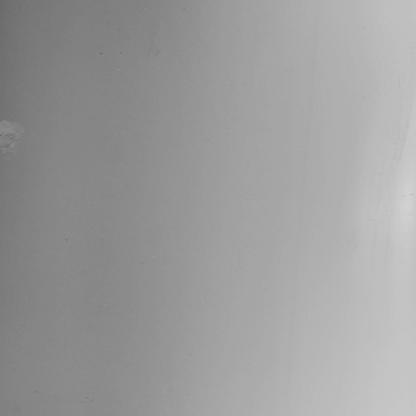sunshang: (1, 122, 25, 156)
